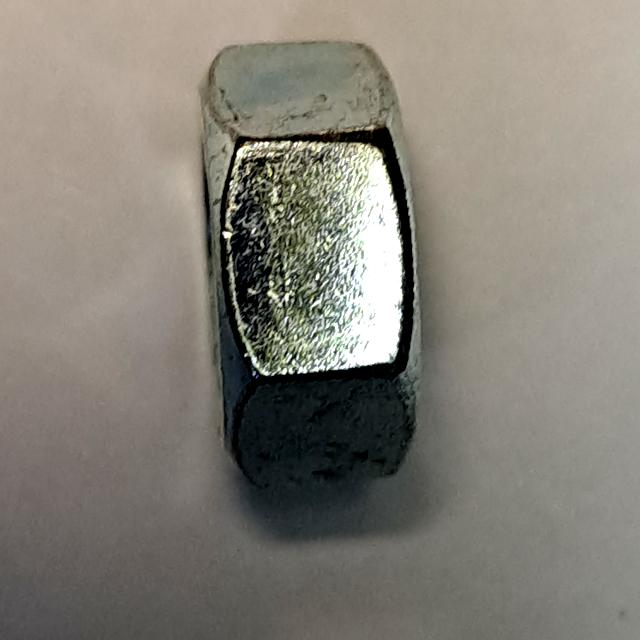Side_Excellent: (173, 25, 440, 509)
